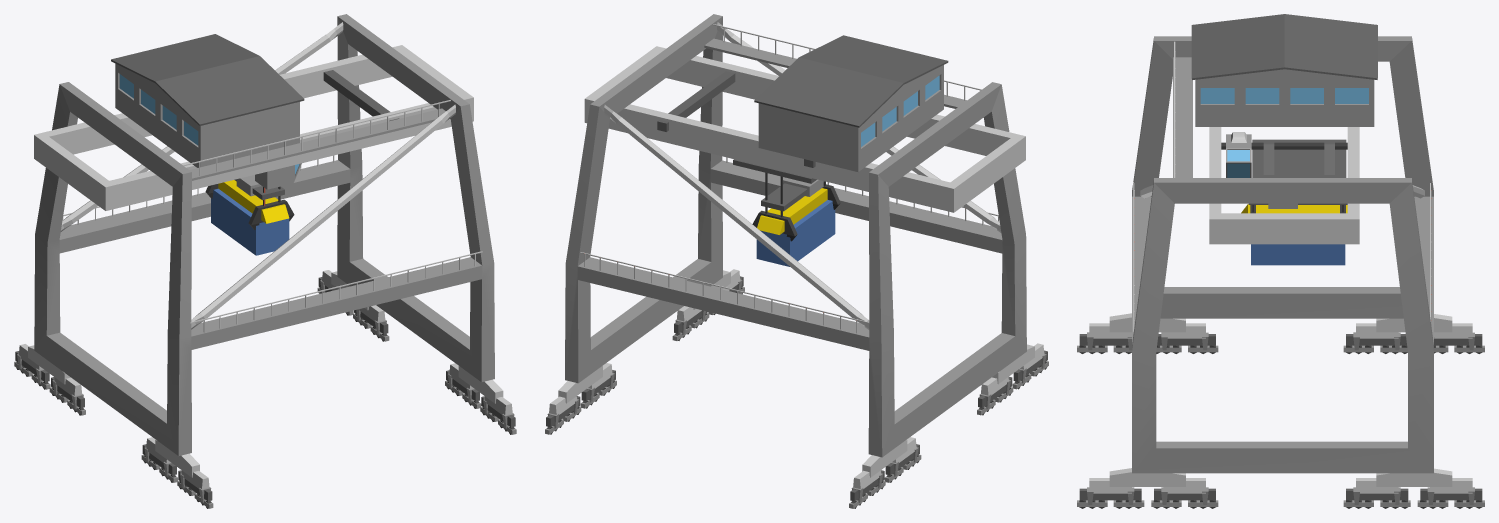
The model's file is Crane_Container_2.fbx.
3 renders of one model, left to right at view 1: azimuth 30°, elevation 25°; view 2: azimuth 150°, elevation 25°; view 3: azimuth 270°, elevation 25°, orthographic. The views are drawn at different scales.
Visible parts, largest first — view 1: Crane_Container_2; view 2: Crane_Container_2; view 3: Crane_Container_2.
Boxes of the visible parts, bbox=[...] form: Crane_Container_2: bbox=[14, 14, 516, 508]; Crane_Container_2: bbox=[545, 14, 1048, 508]; Crane_Container_2: bbox=[1077, 14, 1484, 508].
Bounding box in the file's own units: 8.06 × 7.23 × 7.39.
